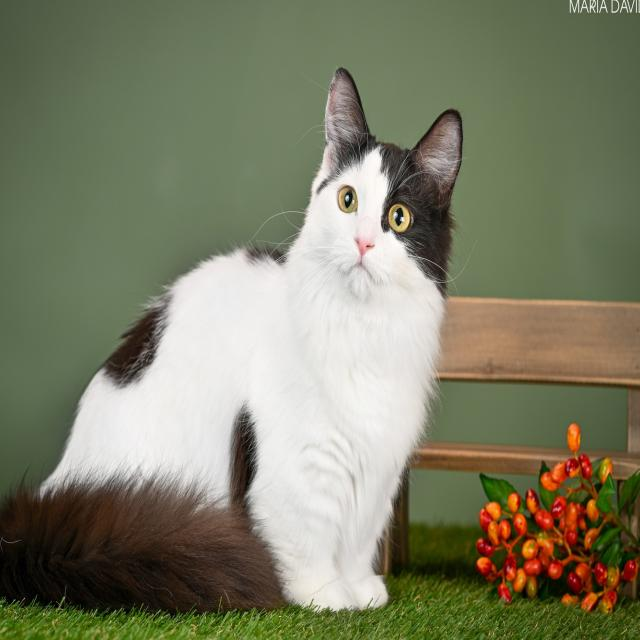Munchkin: (0, 57, 468, 621)
